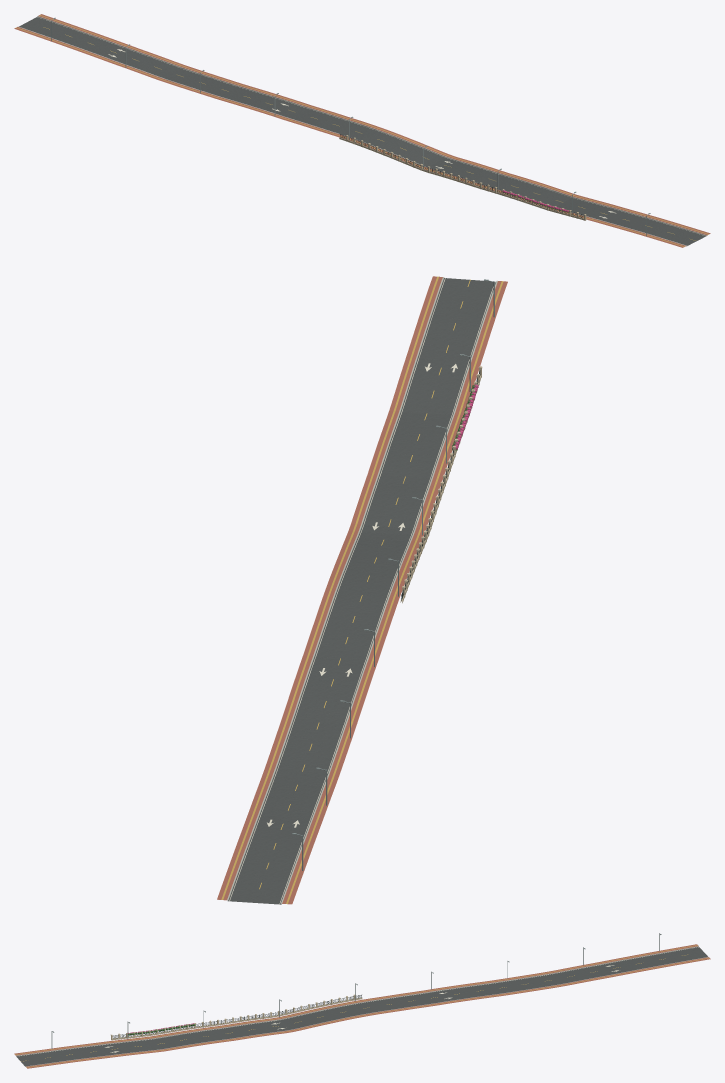
File: infra-road-01.glb
3 views of the same model, one above another, from view 1: azimuth 30°, elevation 25°; view 2: azimuth 150°, elevation 25°; view 3: azimuth 270°, elevation 25° (orthographic). The views are drawn at different scales.
Parts seen in each view (by area): view 1: infra-road-01; view 2: infra-road-01; view 3: infra-road-01.
Boxes of the visible parts, <box> form: infra-road-01: <box>14,14,710,247</box>; infra-road-01: <box>217,276,507,904</box>; infra-road-01: <box>14,933,710,1068</box>.
Size of the model in its own units: 112 by 10.33 by 256.
12 materials, 1 textured.
